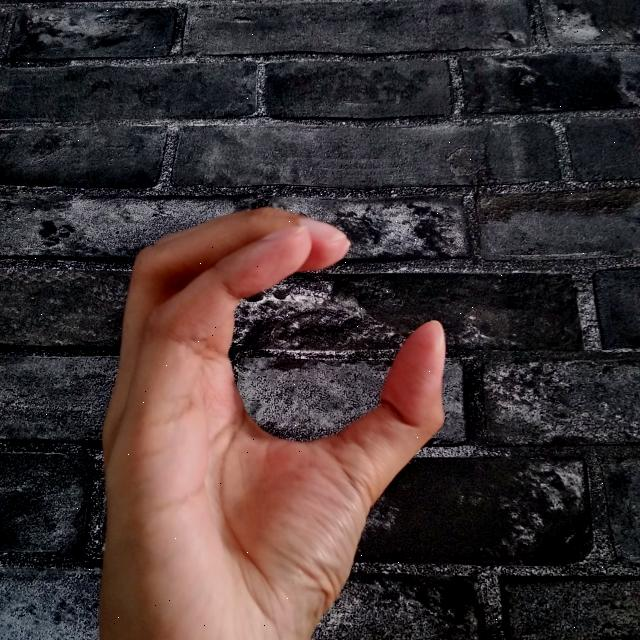C: (98, 202, 454, 640)
